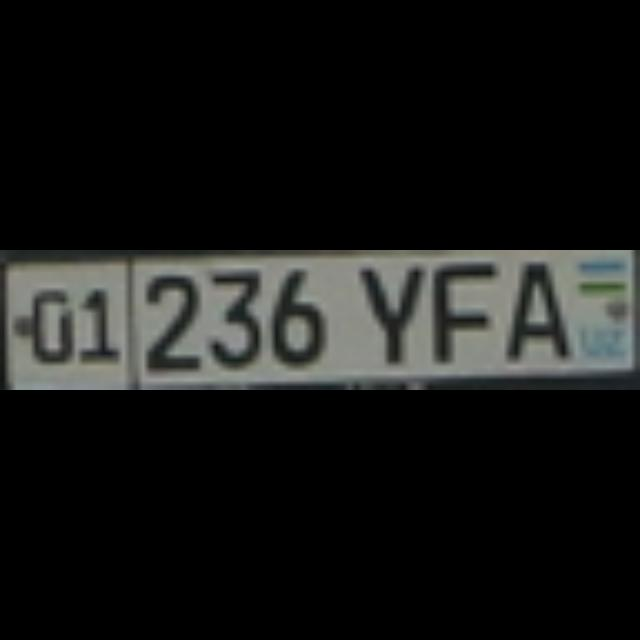0: (20, 284, 60, 356)
1: (67, 284, 107, 356)
2: (133, 263, 193, 363)
3: (200, 263, 253, 363)
6: (260, 264, 314, 356)
A: (494, 250, 560, 356)
F: (419, 250, 486, 356)
Y: (354, 257, 421, 357)
